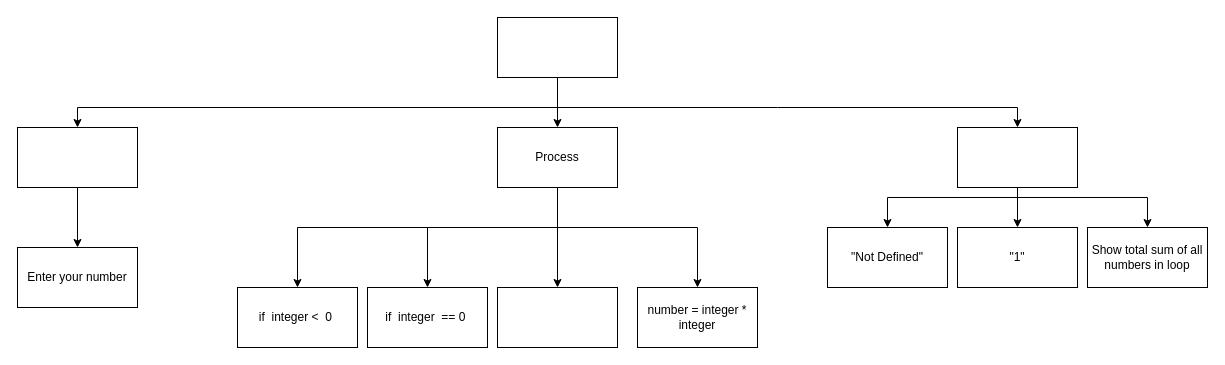
Image size: 1225x365. Some labels were removed from this diagram. The centre of each missing label's shape, as x and y in pixels:
"for number = 0; integer < number + 1; integer++" belongs at (x=557, y=317).
"Input" belongs at (x=77, y=157).
"Output" belongs at (x=1017, y=157).
"The sum of number loop" belongs at (x=557, y=47).
